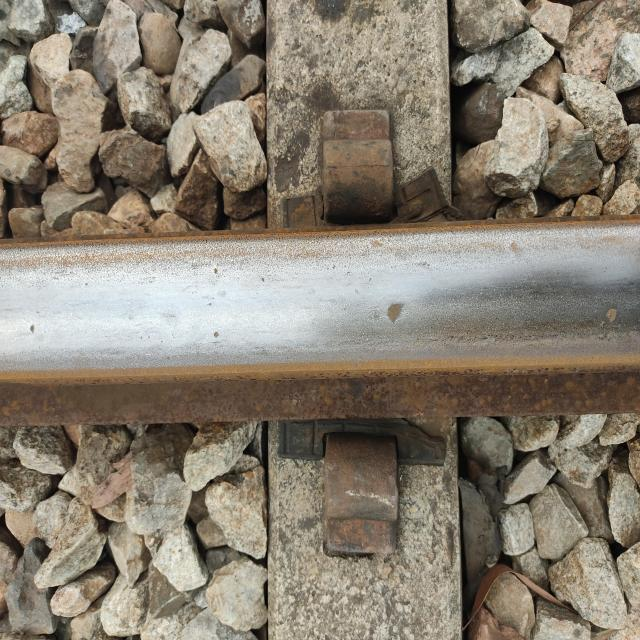squats_high: (387, 300, 404, 324), (606, 304, 616, 322), (510, 239, 521, 255), (211, 327, 221, 339), (28, 320, 36, 334), (212, 262, 219, 276)
